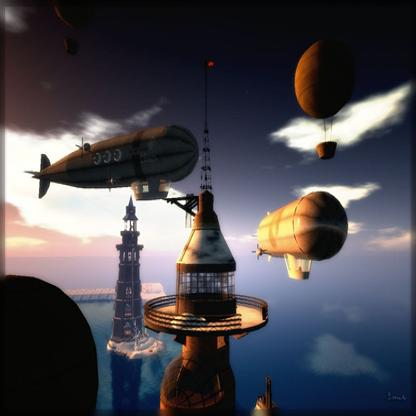Airship: (25, 124, 200, 205), (249, 189, 356, 283)
